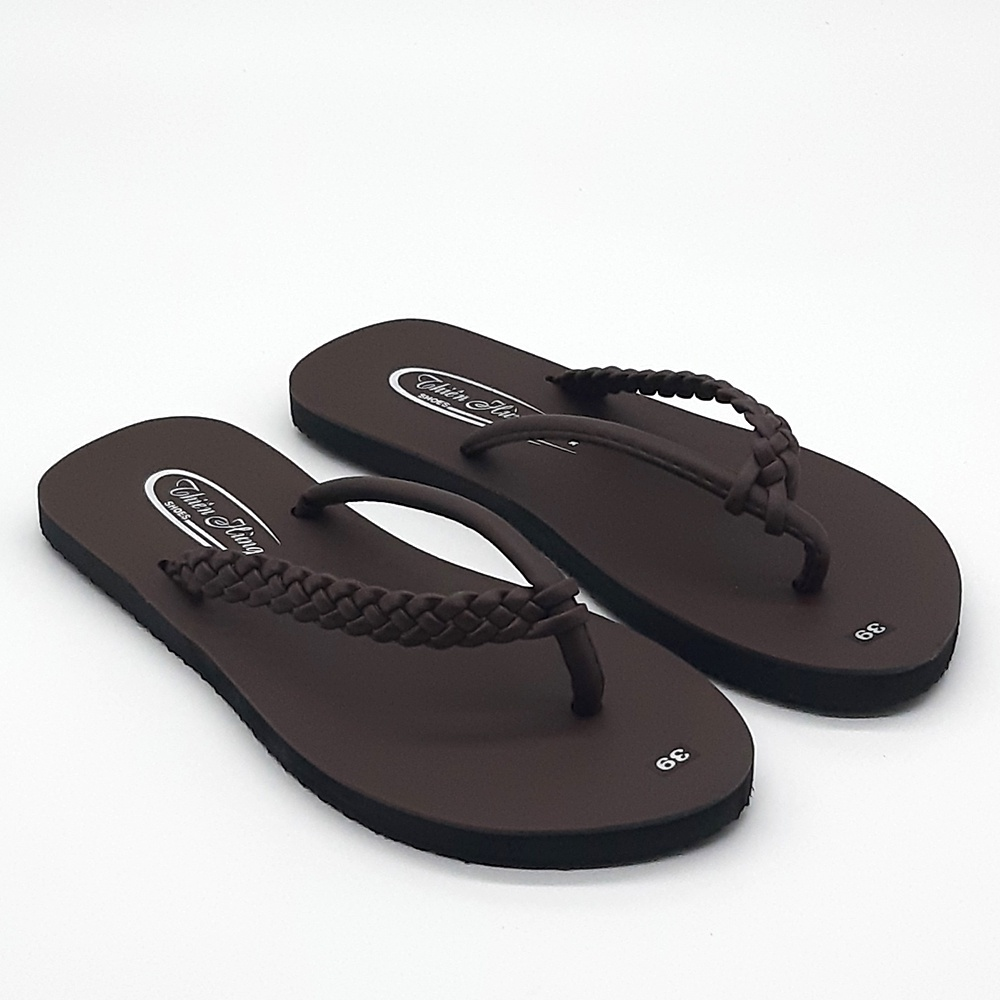flip_flops: (37, 414, 757, 872), (288, 318, 963, 718)
